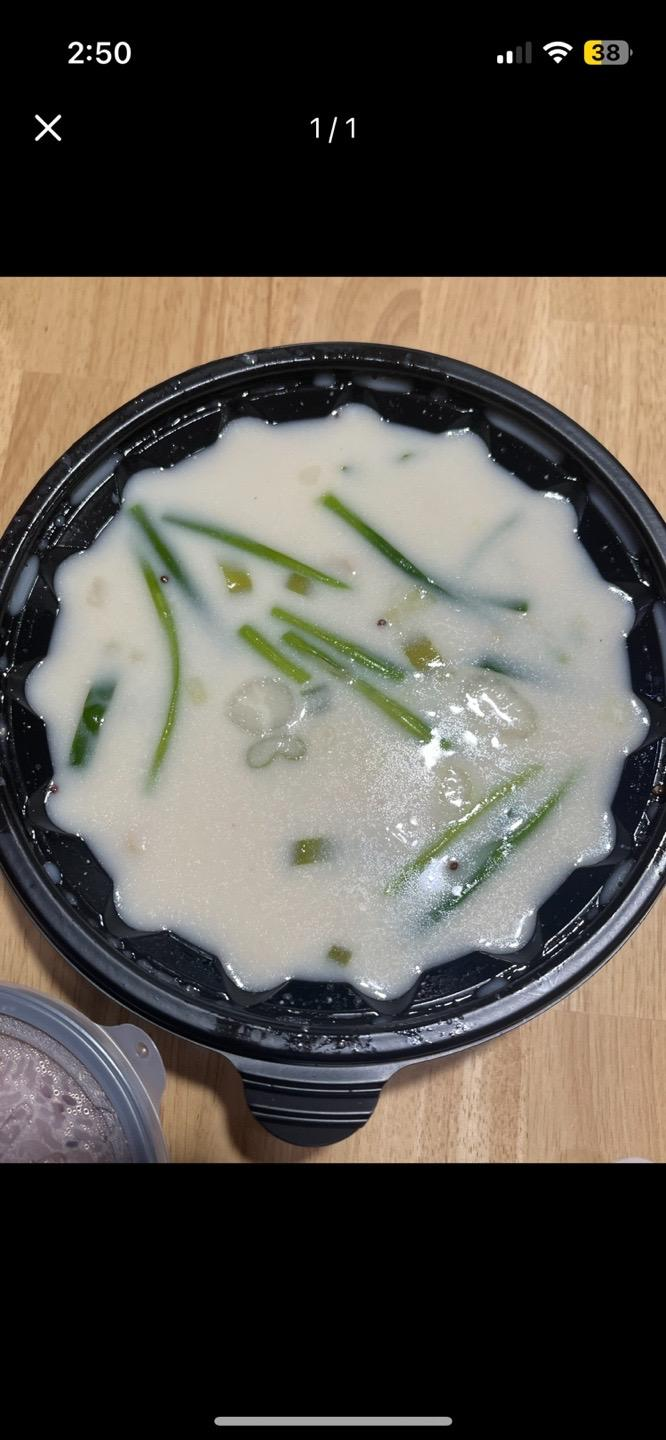Lunch Box: (0, 342, 665, 1144)
cup: (0, 984, 169, 1163)
